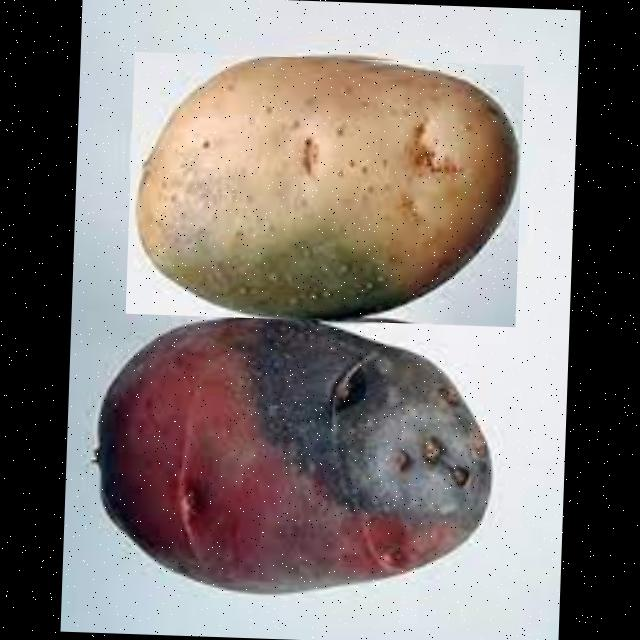Defected potato: (89, 318, 508, 598), (125, 51, 524, 326)
